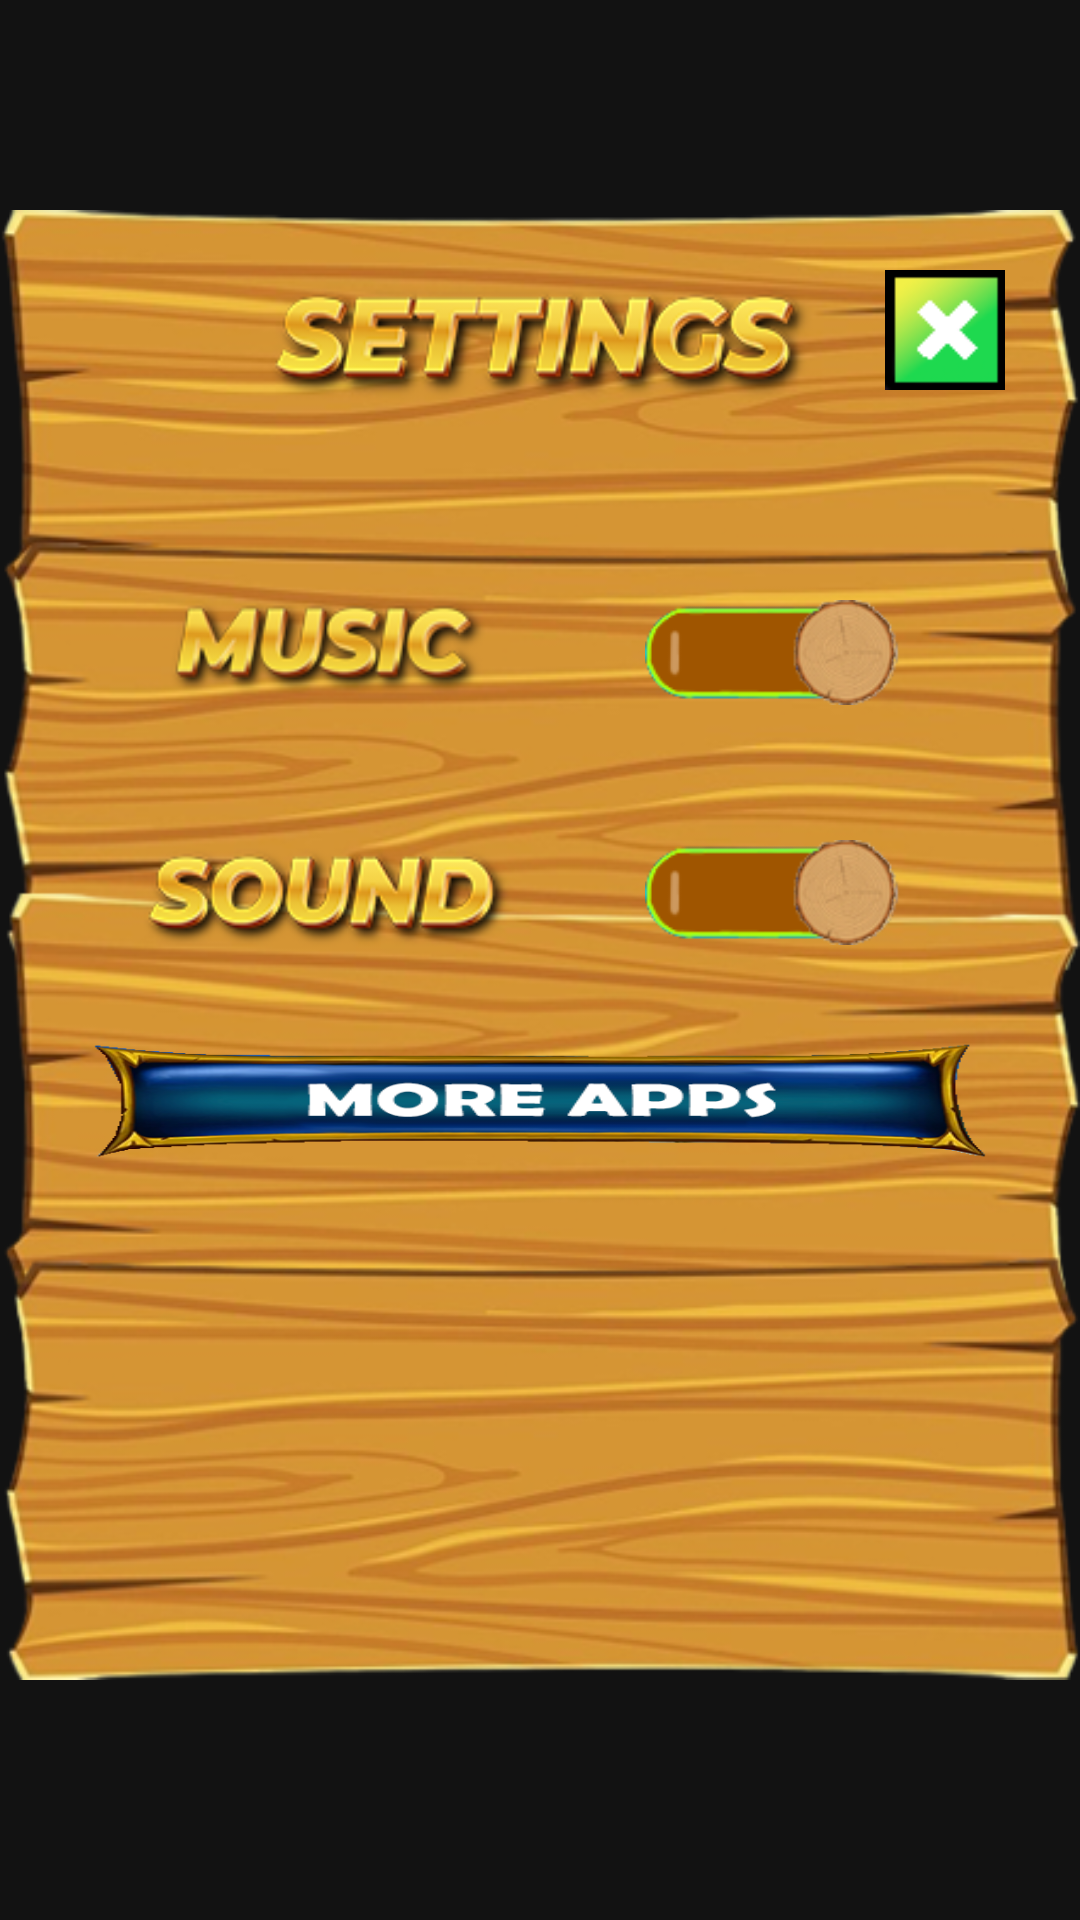

Icon bounding boxes for this 1080 x 1920 phone screenshot, format (x1, y1, x2, y2):
close: (885, 270, 1005, 390)
